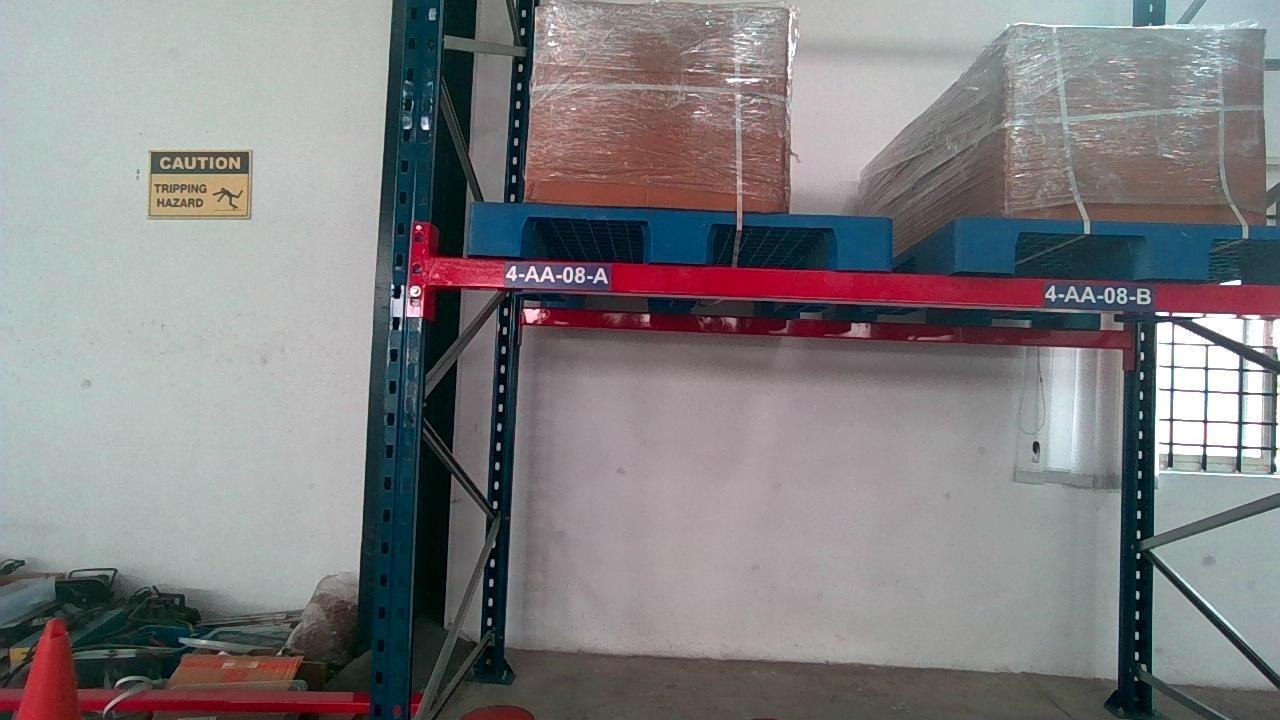h_rack: (428, 257, 1280, 315)
small_pallet: (466, 205, 892, 263), (954, 219, 1280, 279)
